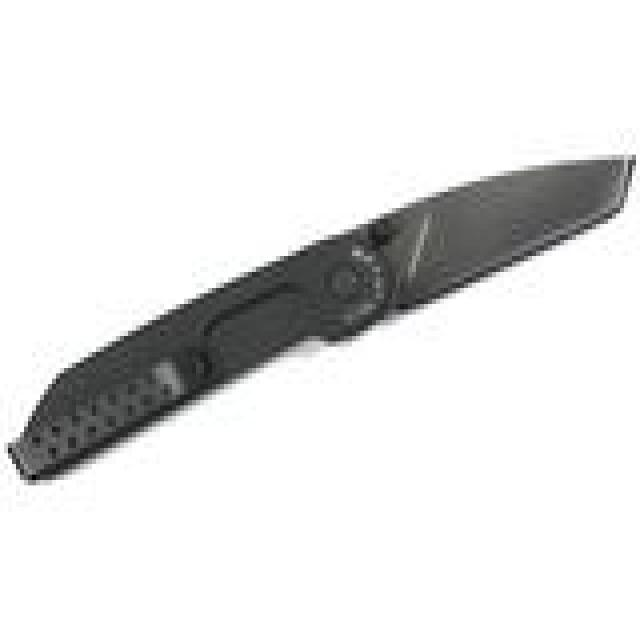Knife: (13, 134, 634, 486)
